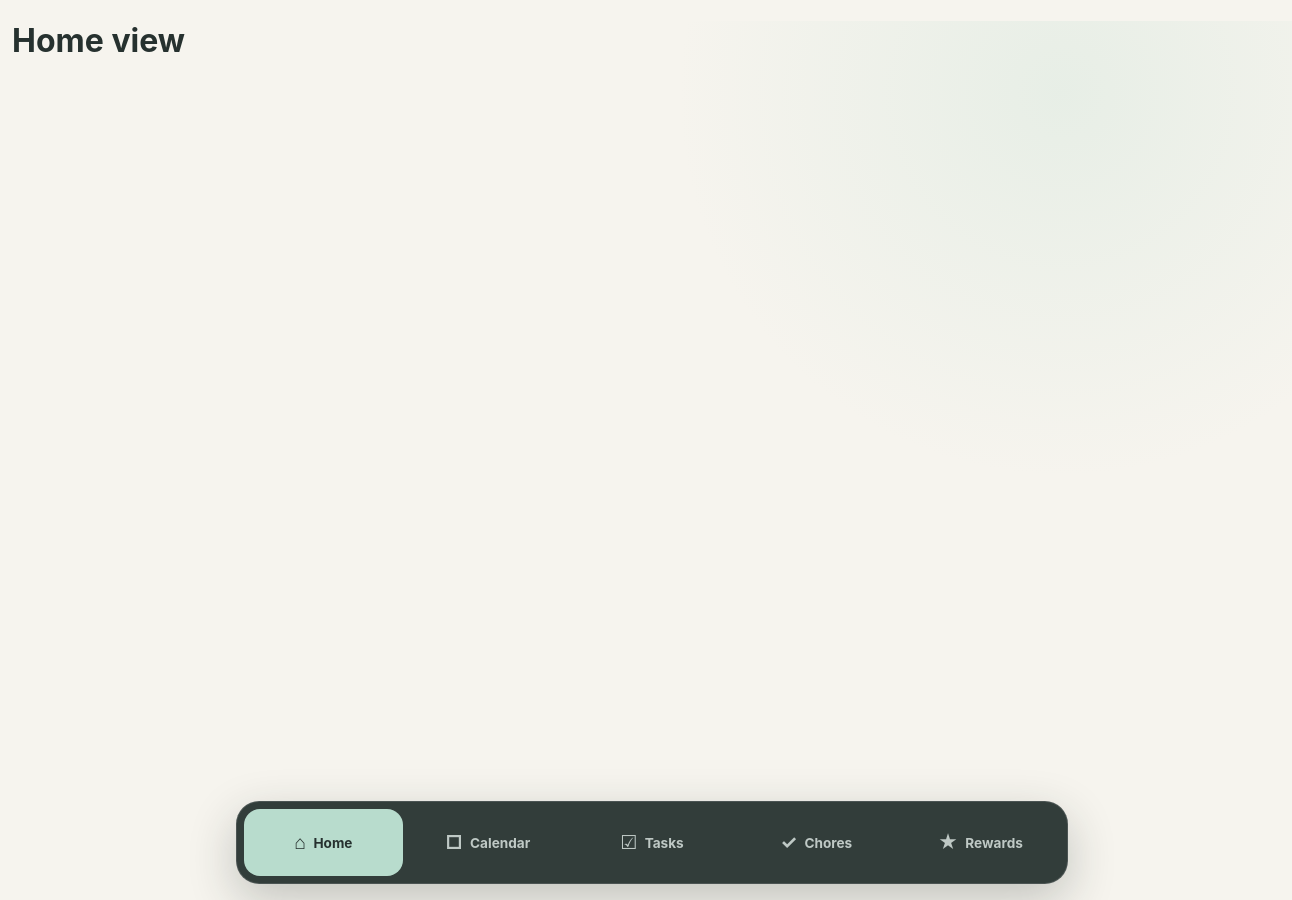
Test case: WorkspaceLayout › moves to the adjacent route after a committed horizontal drag
Press the mouse on the element with class "workspace-viewport" at (99, 41), box [12,21,185,60]
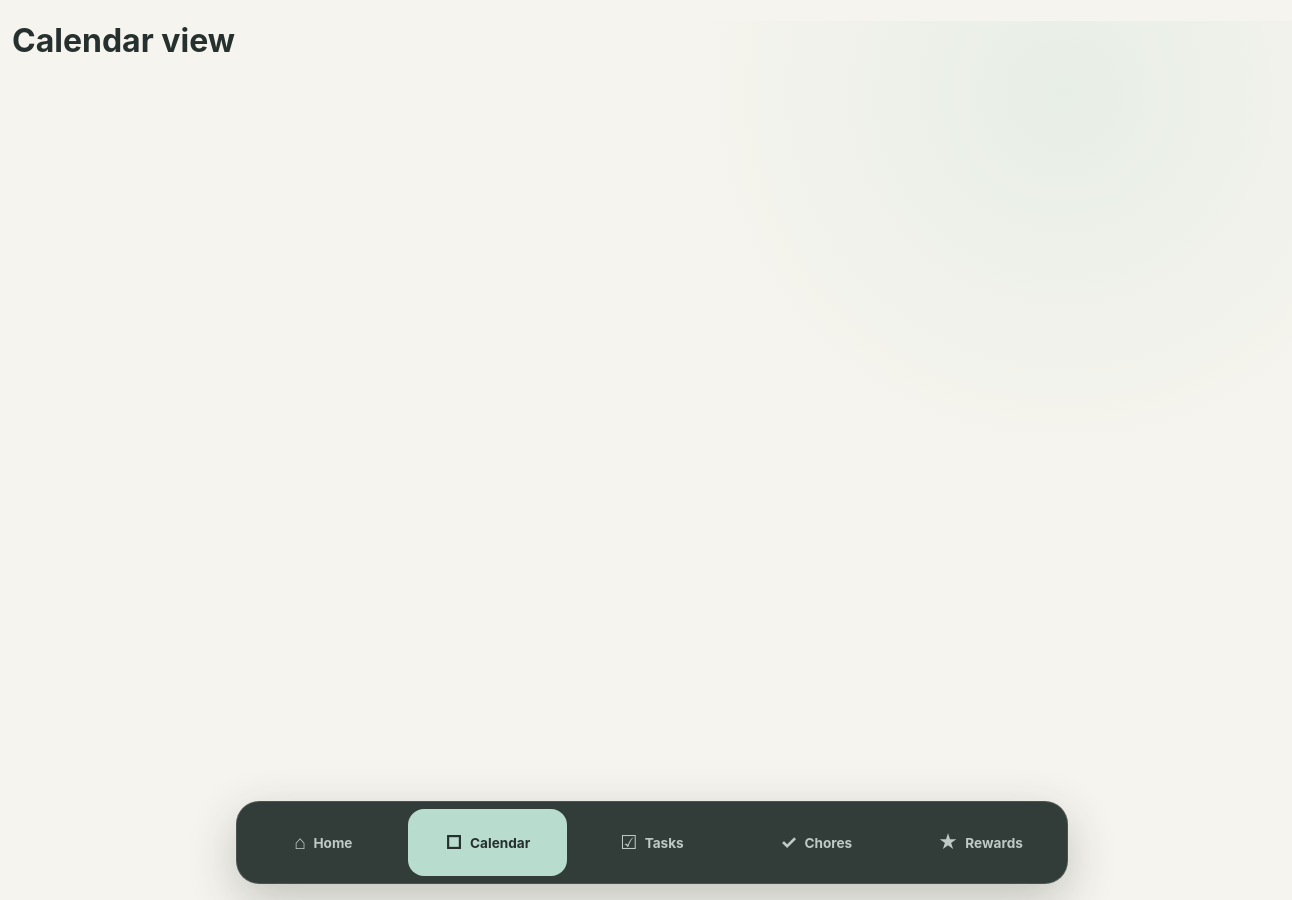
expect the heading "Calendar view" is shown: met, box [12,21,235,60]
